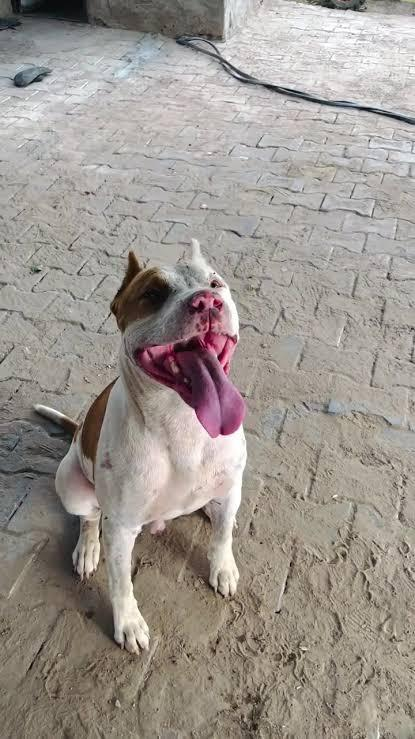adult_dog: (32, 237, 248, 655)
